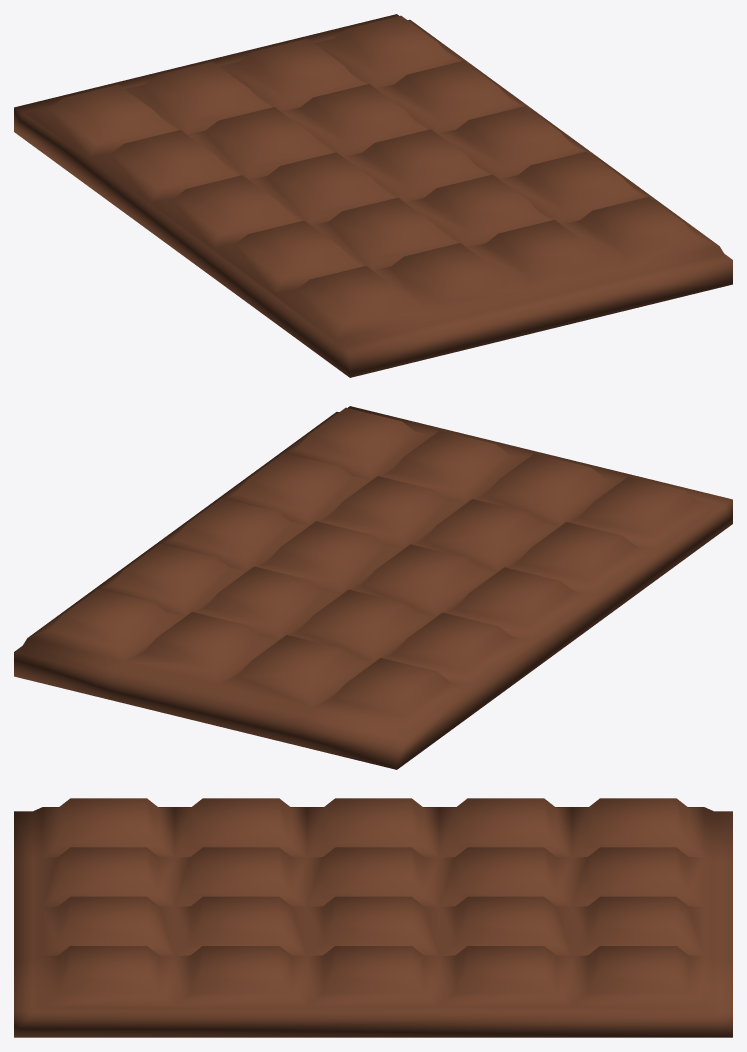
The model's file is ChocolateBar.fbx.
The picture shows the model from 3 angles, top to bottom: view 1: azimuth 30°, elevation 25°; view 2: azimuth 150°, elevation 25°; view 3: azimuth 270°, elevation 25°; orthographic projection. The views are drawn at different scales.
Visible parts, largest first — view 1: ChocolateBar; view 2: ChocolateBar; view 3: ChocolateBar.
Part boxes in pixels (x1,y1,x2,y2): ChocolateBar: [14, 14, 732, 377]; ChocolateBar: [14, 406, 732, 769]; ChocolateBar: [14, 798, 732, 1037].
Size of the model in its own units: 1.44 by 0.1708 by 2.19.
